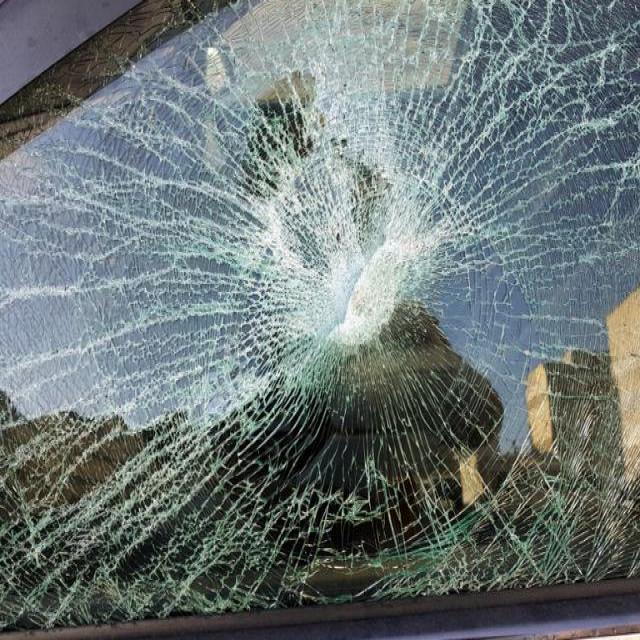Dent: (522, 348, 534, 356), (622, 320, 627, 327)
